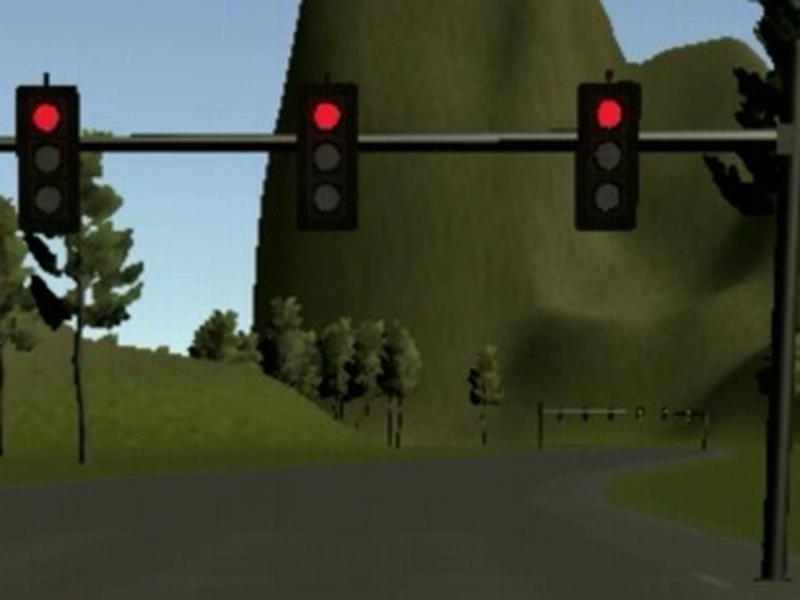Red: (573, 82, 642, 231), (15, 85, 81, 232), (299, 81, 357, 231)
